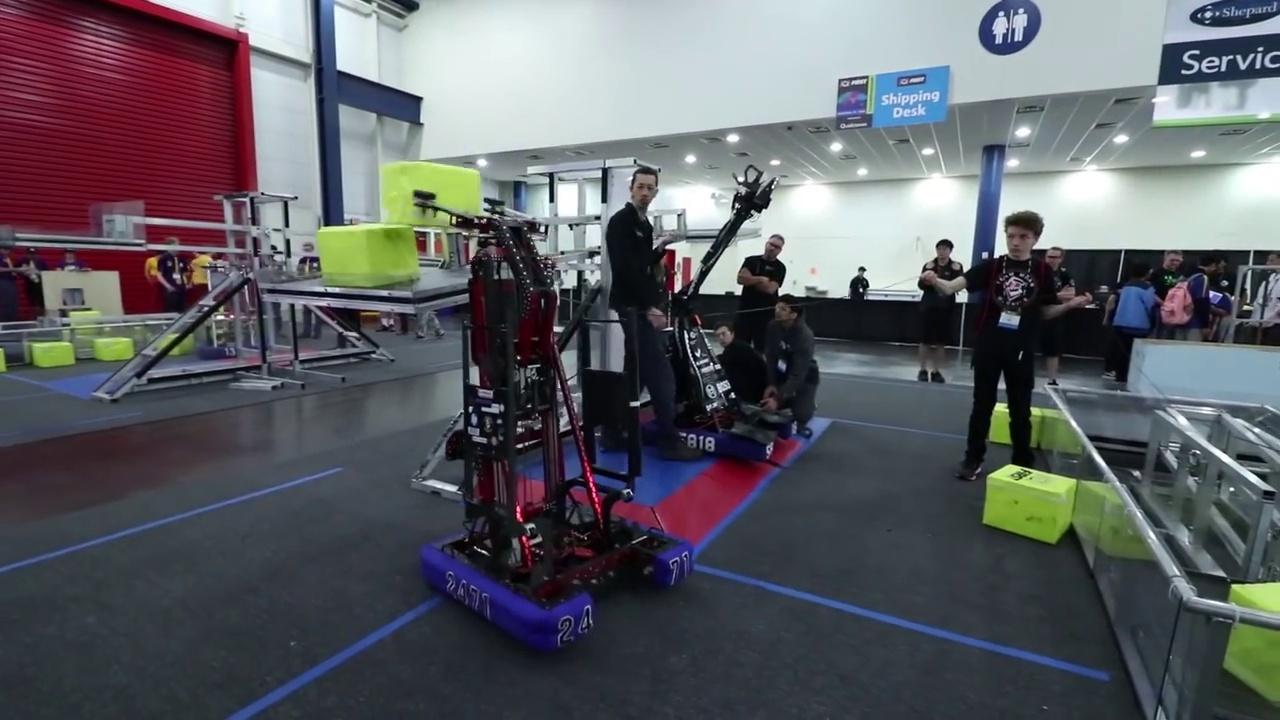robot: (418, 213, 700, 660), (653, 292, 800, 469)
